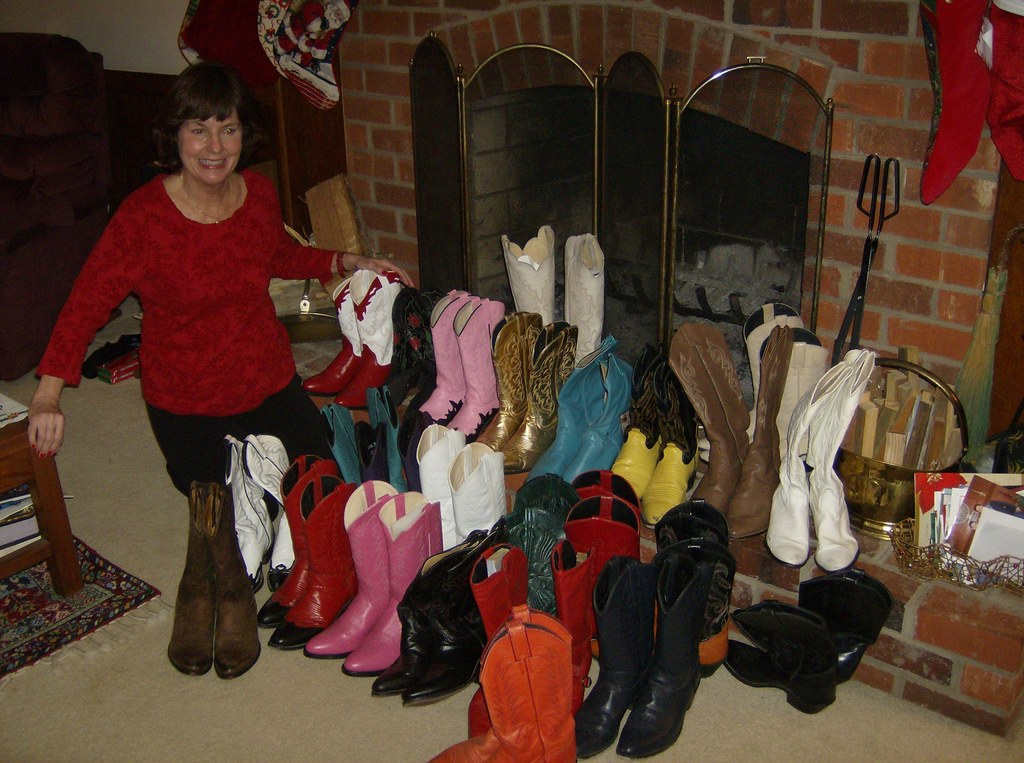Footwear: (212, 271, 884, 762), (211, 475, 268, 684), (169, 481, 213, 675), (495, 230, 549, 366), (565, 230, 608, 357)
